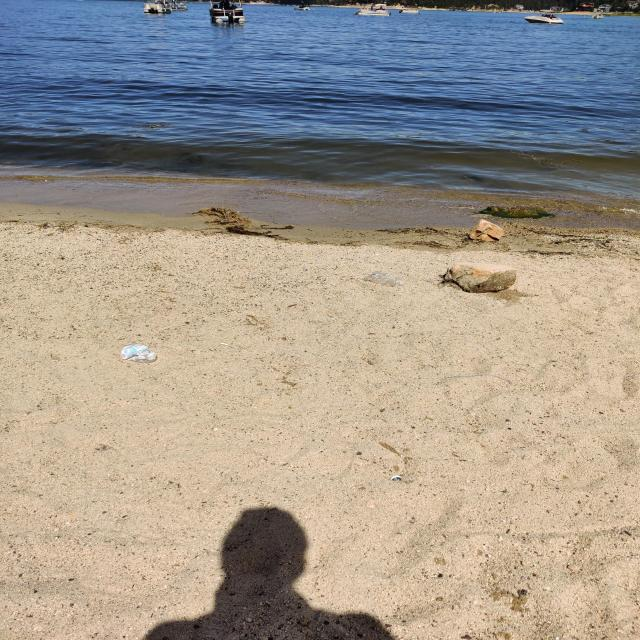litter: (361, 270, 409, 288), (121, 341, 160, 363), (383, 471, 407, 485)
